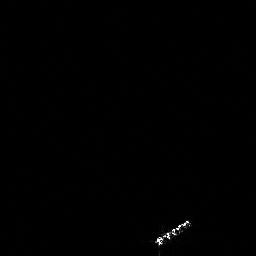ship: (150, 215, 195, 248)
